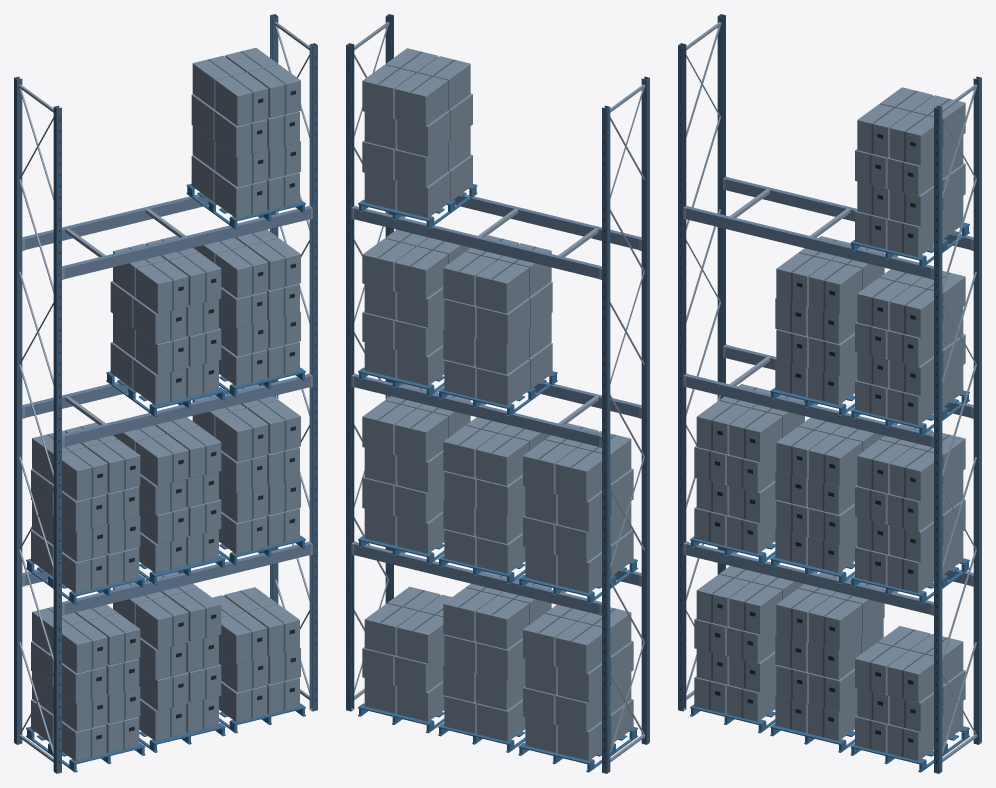
The model's file is SM_GHS_V2Rack_A_W37619_Occ70.fbx.
The picture shows the model from 3 angles, left to right: view 1: azimuth 30°, elevation 25°; view 2: azimuth 150°, elevation 25°; view 3: azimuth 330°, elevation 25°; orthographic projection.
Parts seen in each view (by area): view 1: SM_GHS_V2Rack_A_W37619_Occ70; view 2: SM_GHS_V2Rack_A_W37619_Occ70; view 3: SM_GHS_V2Rack_A_W37619_Occ70.
Boxes of the visible parts, <box> form: SM_GHS_V2Rack_A_W37619_Occ70: <box>14,14,317,773</box>; SM_GHS_V2Rack_A_W37619_Occ70: <box>346,14,649,773</box>; SM_GHS_V2Rack_A_W37619_Occ70: <box>678,14,981,773</box>.
Size of the model in its own units: 376 by 122 by 915.
